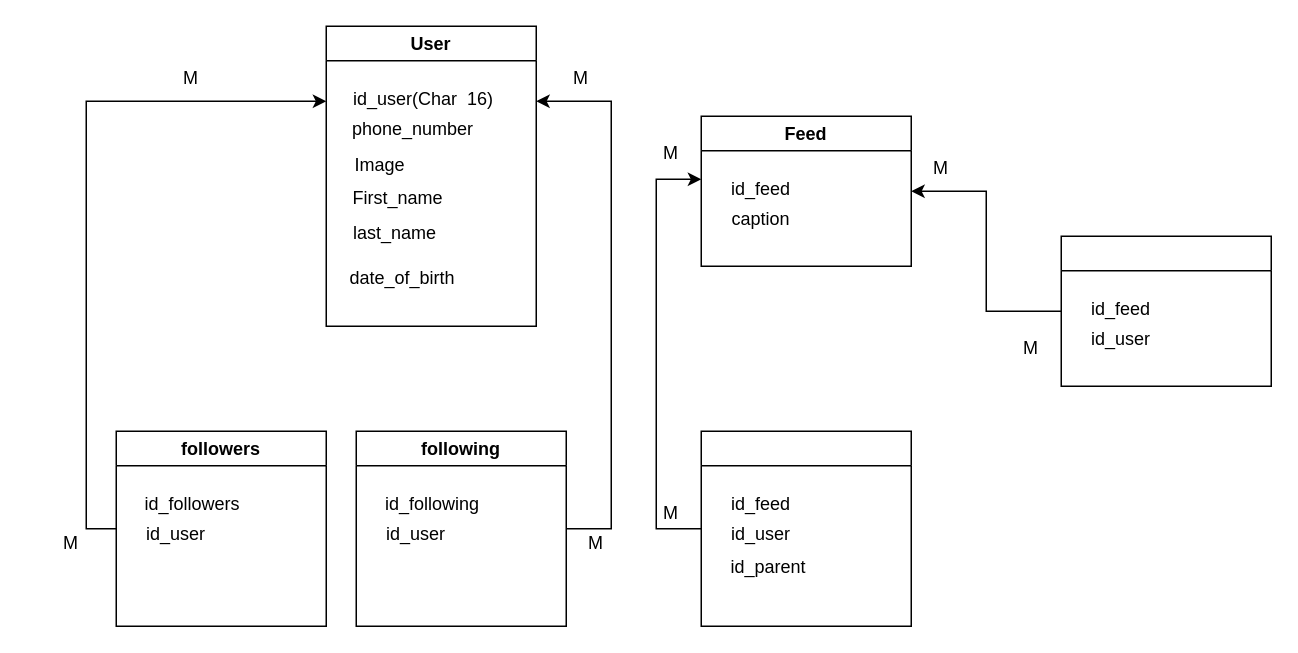
The diagram is 1298 pixels wide and 653 high, and some of its shapes have lost their labels. Each missing label, with the box of its shape:
Feed_comment: (700, 430, 911, 626)
Feed_like: (1060, 235, 1271, 386)
